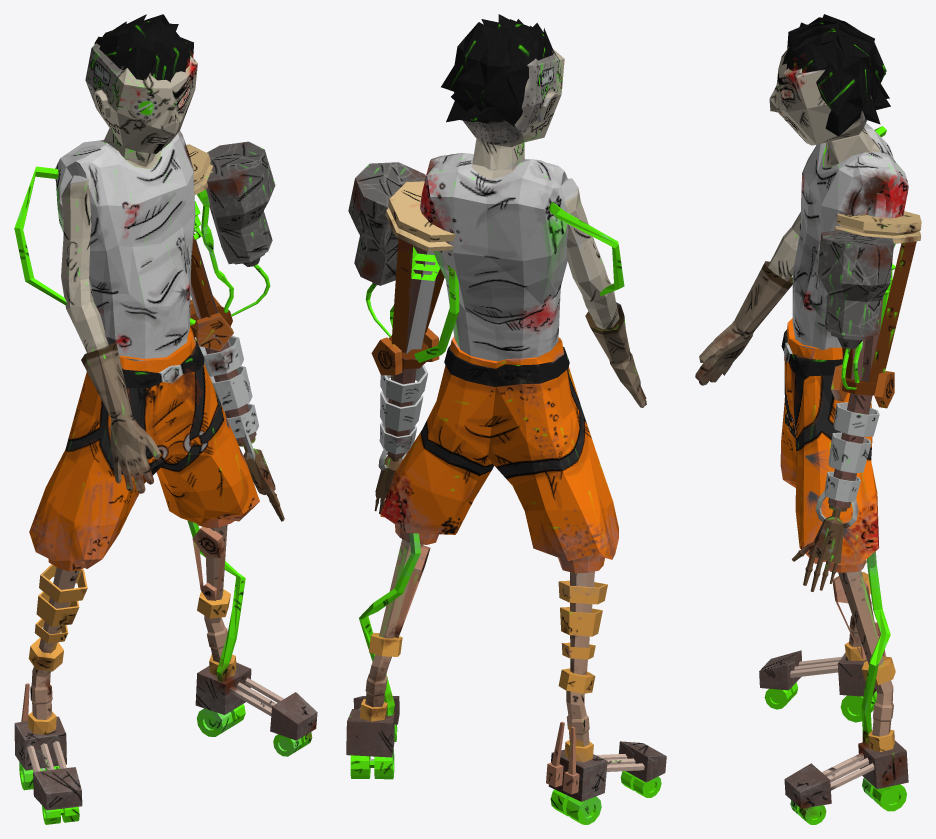
Rendered from CyborgFINALAnimation_000043.obj.
3 renders of one model, left to right at view 1: azimuth 30°, elevation 25°; view 2: azimuth 150°, elevation 25°; view 3: azimuth 270°, elevation 25°, orthographic. The views are drawn at different scales.
Parts seen in each view (by area): view 1: CyborgMesh_Cube.002; view 2: CyborgMesh_Cube.002; view 3: CyborgMesh_Cube.002.
Boxes of the visible parts, x1,y1,x2,y2 form: CyborgMesh_Cube.002: (14,14,317,824); CyborgMesh_Cube.002: (346,14,666,824); CyborgMesh_Cube.002: (695,14,921,824).
Size of the model in its own units: 3.81 by 9.65 by 2.69.
